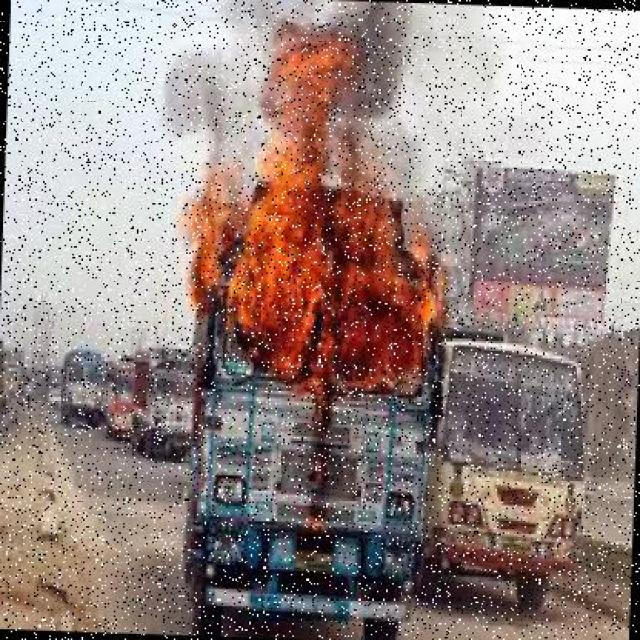fire: (172, 34, 457, 412)
